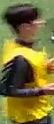yellow: (1, 0, 54, 124)
